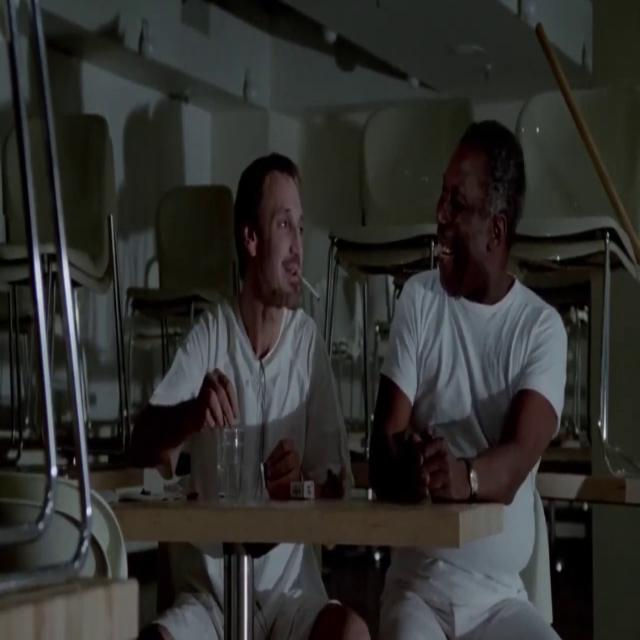Smooking: (299, 276, 326, 308)
